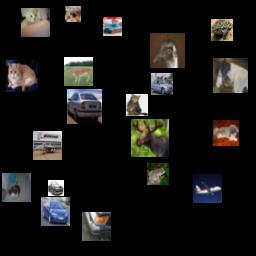airplane: (193, 174, 222, 203), (33, 131, 62, 160)
automobile: (67, 89, 102, 124), (41, 197, 70, 226), (82, 212, 111, 241), (151, 73, 173, 95), (103, 17, 122, 36), (48, 180, 64, 196)
bird: (150, 33, 185, 68)
cat: (6, 60, 38, 92), (21, 8, 50, 37), (126, 94, 148, 116)
deer: (131, 119, 169, 157), (64, 57, 93, 86)
dog: (2, 173, 31, 202), (213, 120, 239, 146), (65, 6, 81, 22)
frog: (147, 163, 169, 185), (211, 19, 233, 41)
